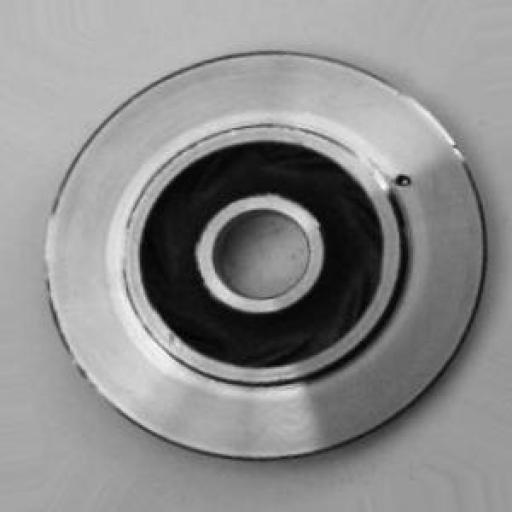defect: (379, 152, 425, 208)
